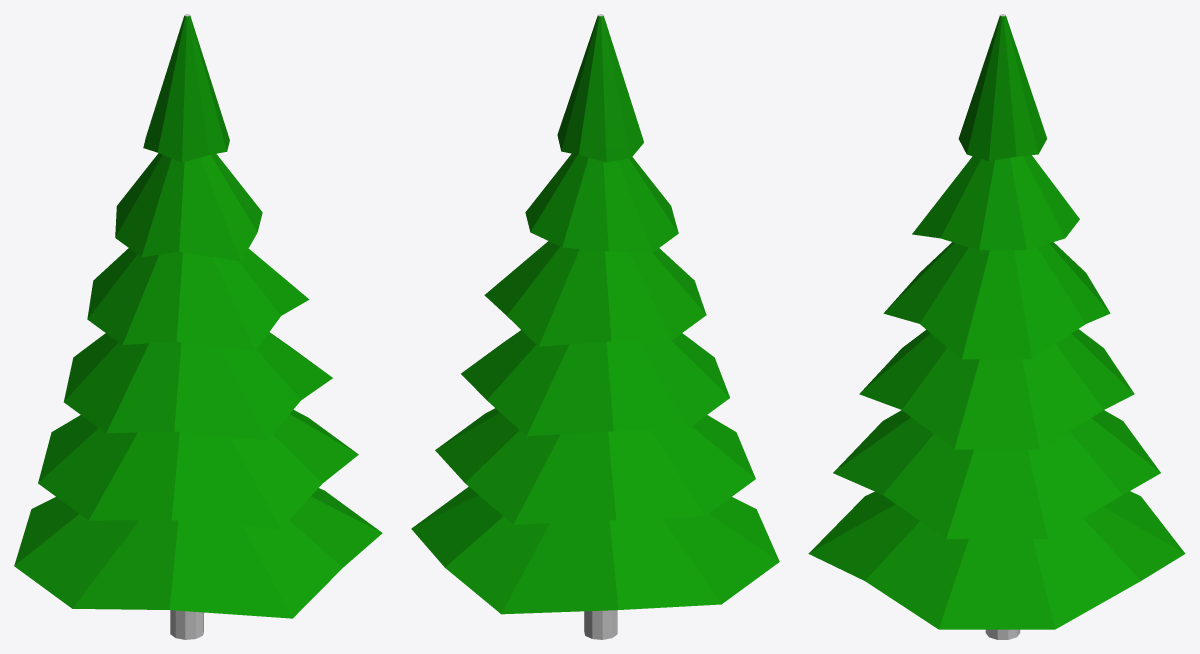
The model's file is PineTree.fbx.
The picture shows the model from 3 angles, left to right: view 1: azimuth 30°, elevation 25°; view 2: azimuth 150°, elevation 25°; view 3: azimuth 270°, elevation 25°; orthographic projection.
Parts seen in each view (by area): view 1: Cube; view 2: Cube; view 3: Cube.
Part boxes in pixels (box(x1,y1,x2,y2)): Cube: box(14, 14, 382, 639); Cube: box(411, 14, 779, 639); Cube: box(808, 14, 1185, 639).
Bounding box in the file's own units: 2.79 × 5.05 × 2.66.
